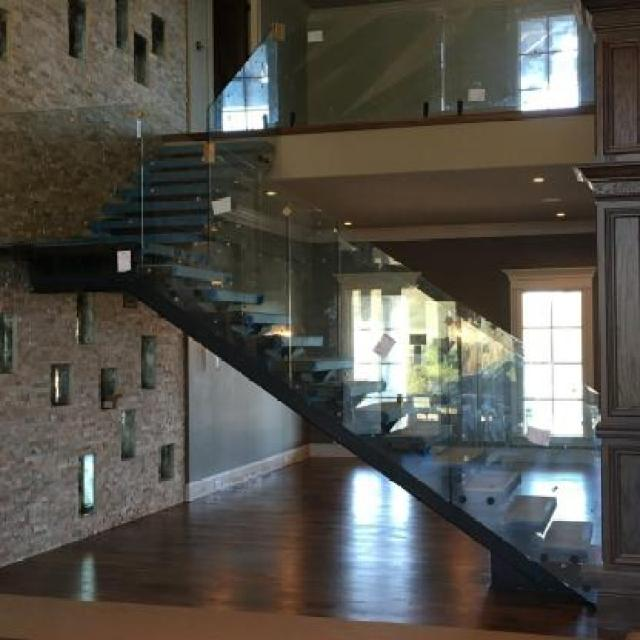floor: (0, 457, 595, 639)
